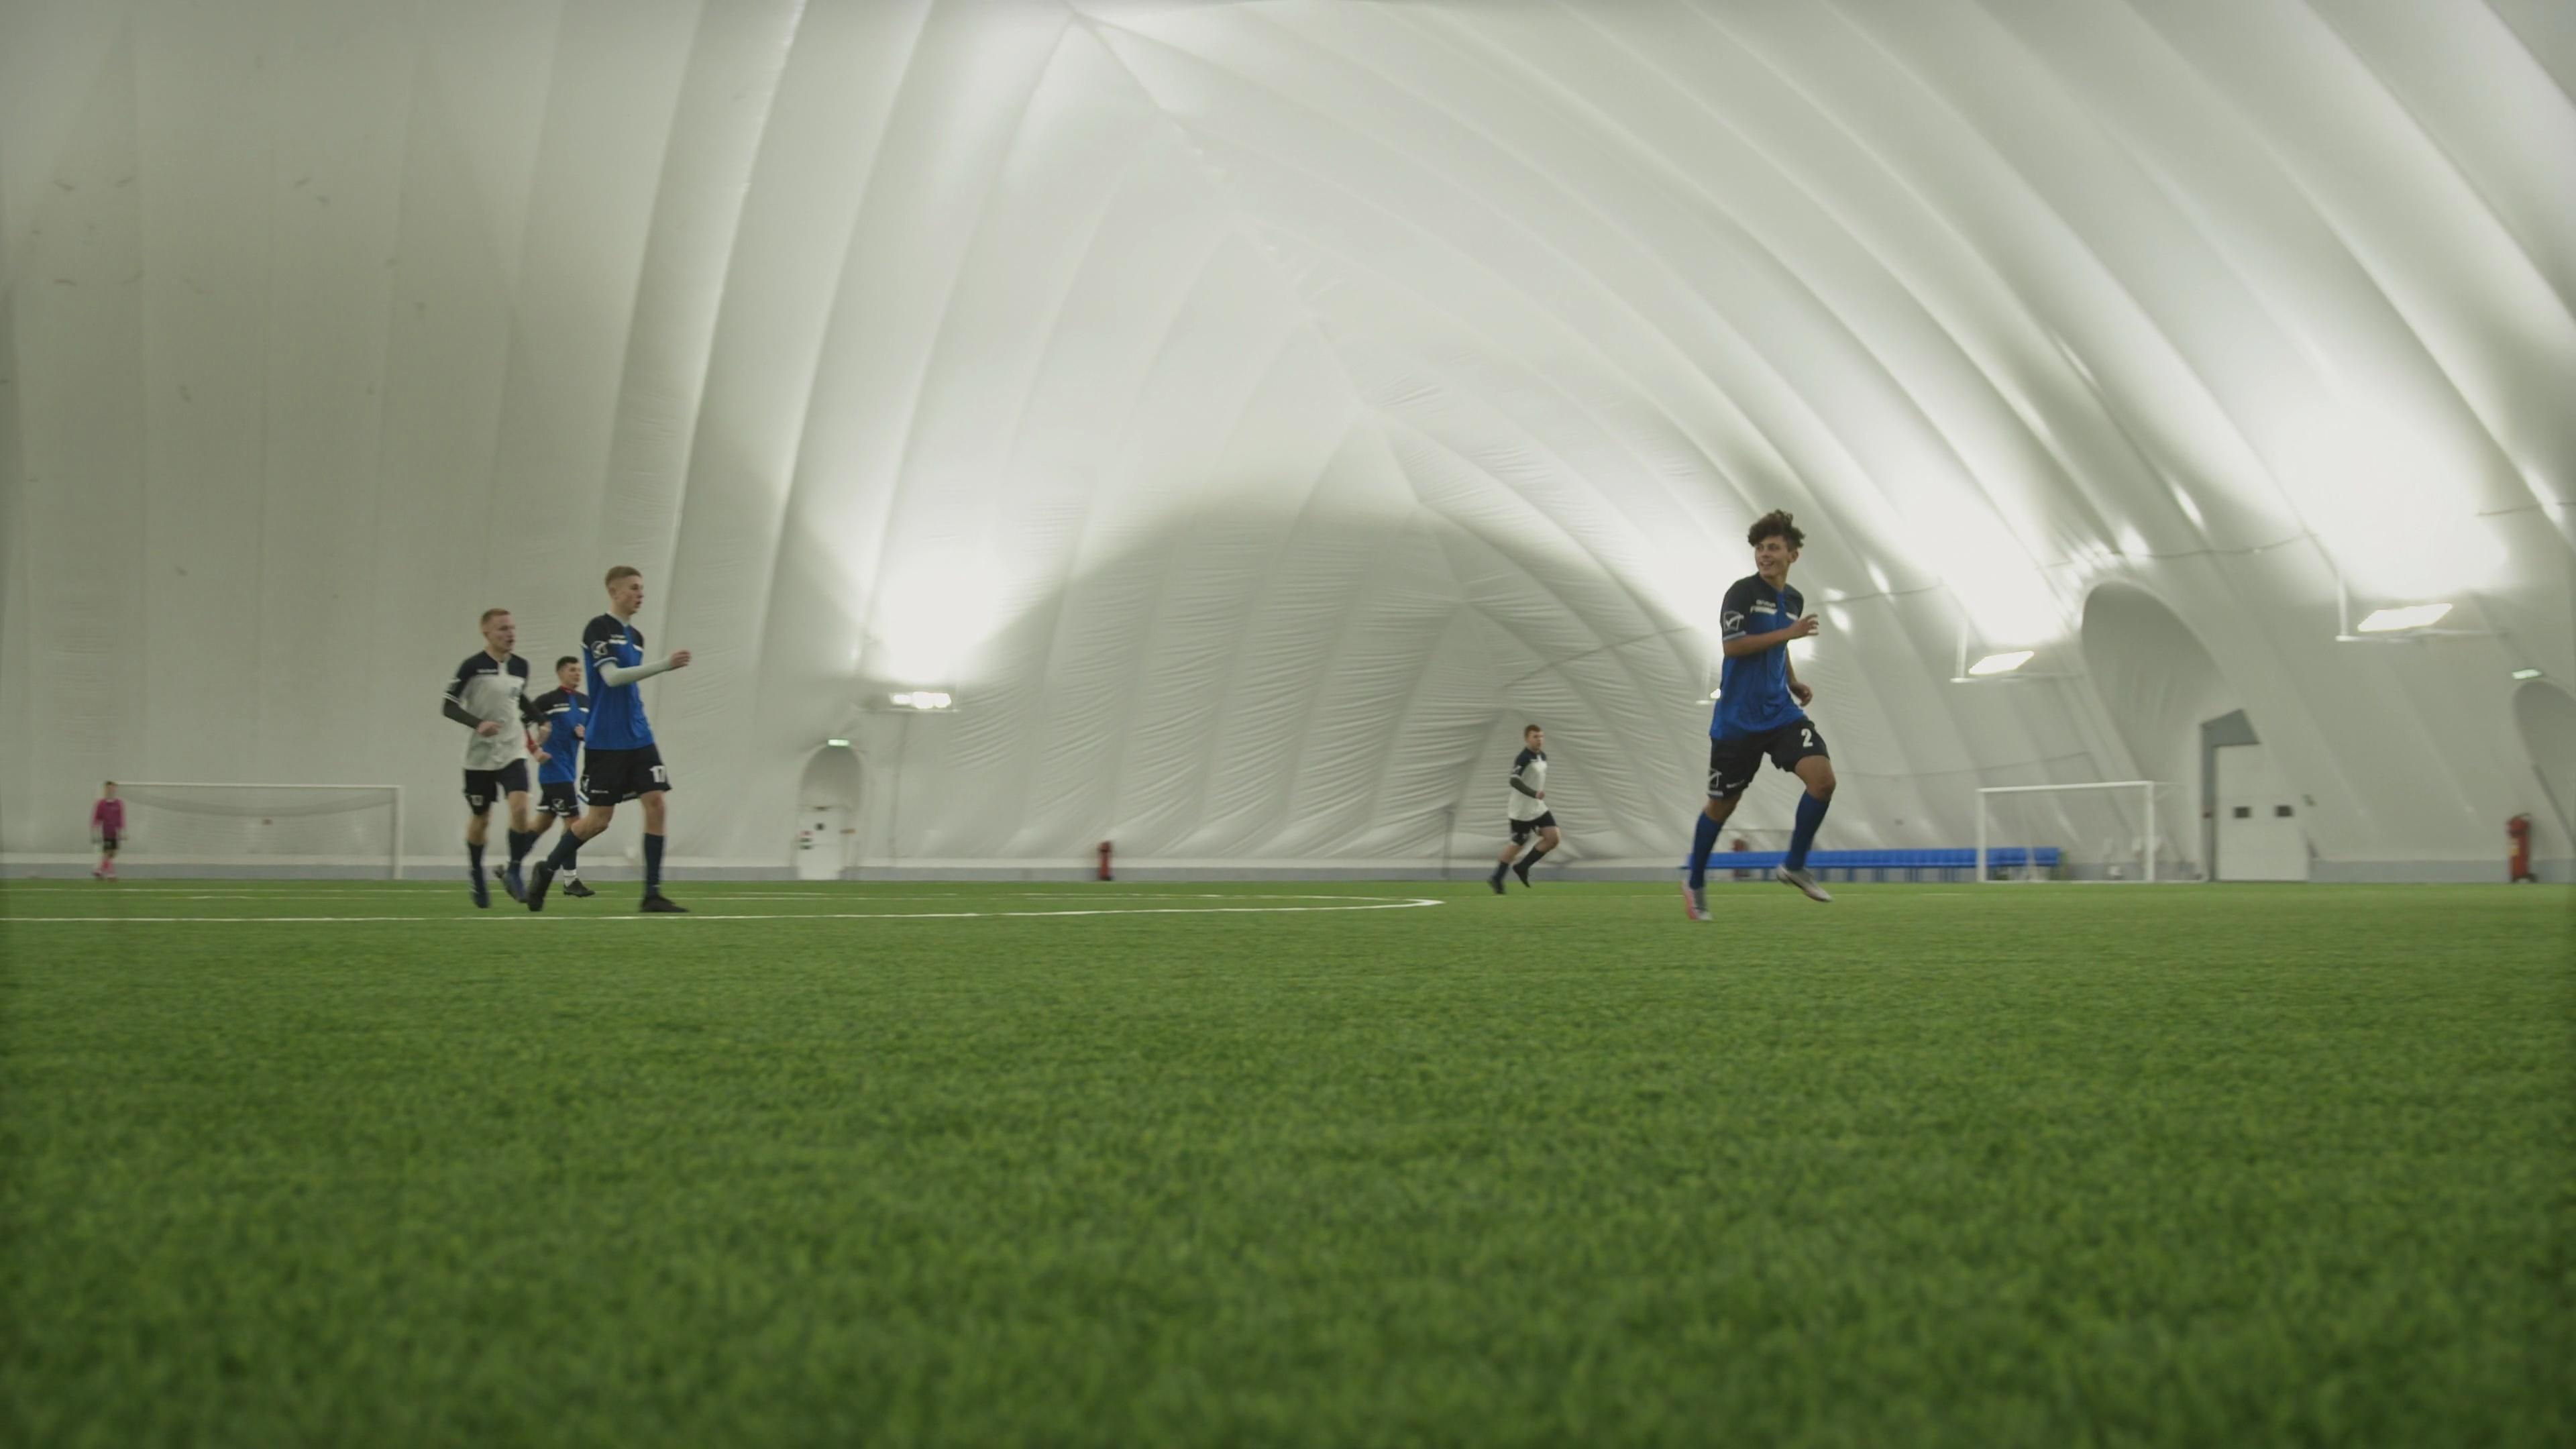team1: (1679, 510, 1842, 918), (527, 564, 695, 916), (525, 646, 584, 895)
team1gk: (90, 777, 127, 885)
team2: (441, 602, 550, 920), (1491, 722, 1564, 893)
